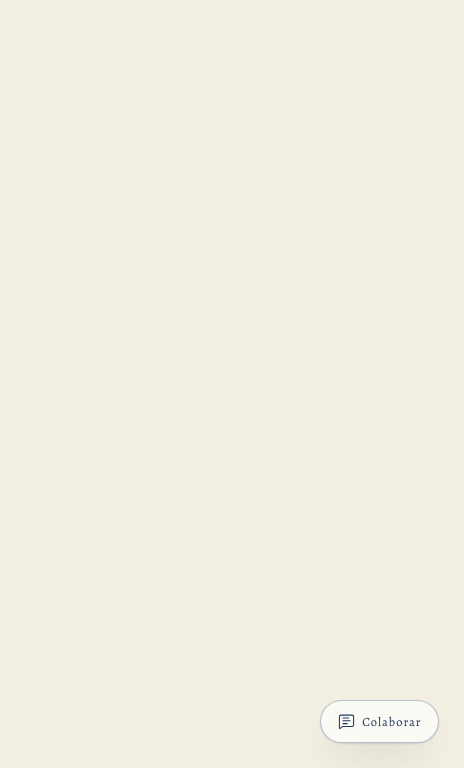
Test: project collaboration sidebar › unmounts the sidebar when closed and returns focus to the trigger button after closing (CR-84)
Expected: the element "Colaboração no projeto" is not shown
Click the button with aria-label "Abrir colaboração no projeto". click: x=380, y=722
box: x1=320 y1=700 x2=440 y2=744
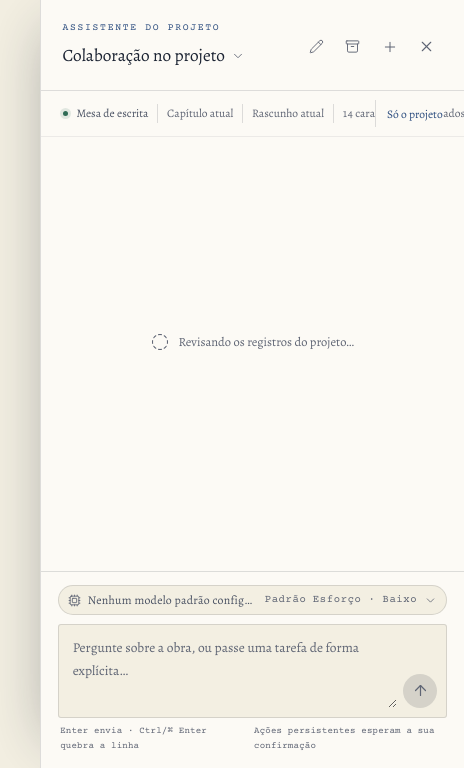
Expected: the element "Colaboração no projeto" is shown
Click the button named "Fechar colaboração no projeto". click: x=426, y=47
box: x1=410 y1=31 x2=442 y2=63
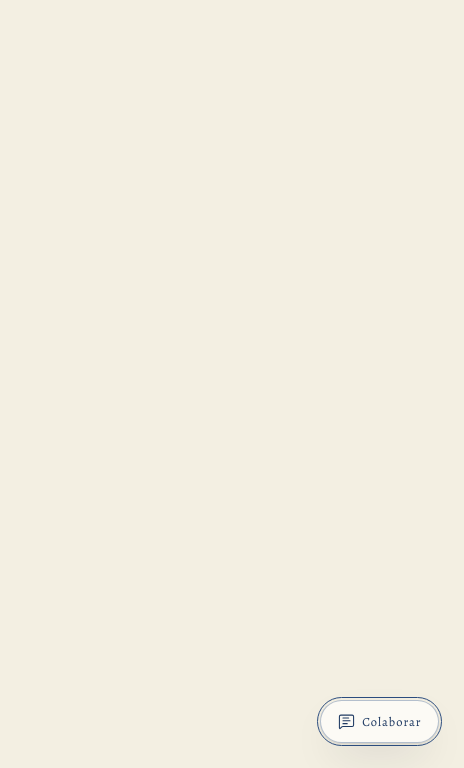
Expected: the button "Colaboração no projeto" is gone
